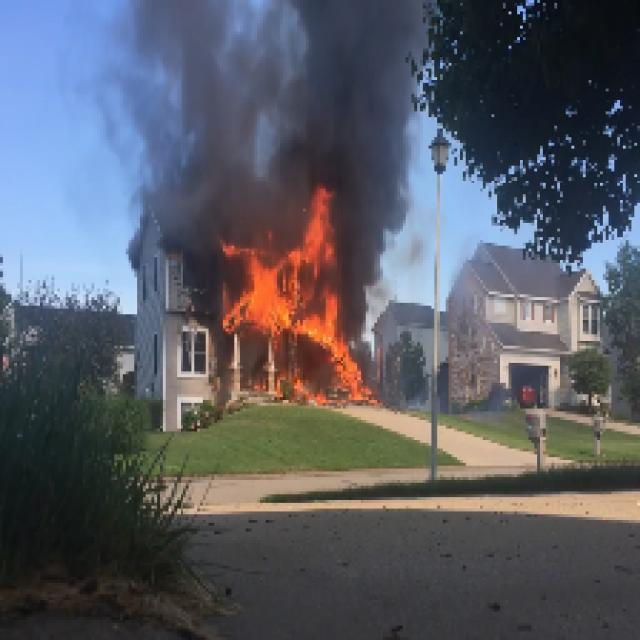Fire: (226, 245, 291, 328), (303, 286, 348, 366), (297, 188, 337, 258)
Smoke: (91, 3, 278, 220), (274, 3, 426, 180), (346, 182, 423, 328)
